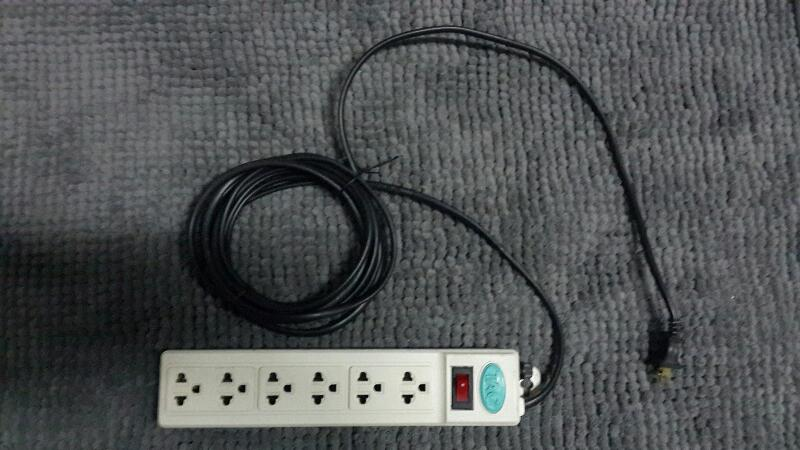Three_eye_plug: (137, 334, 537, 438)
